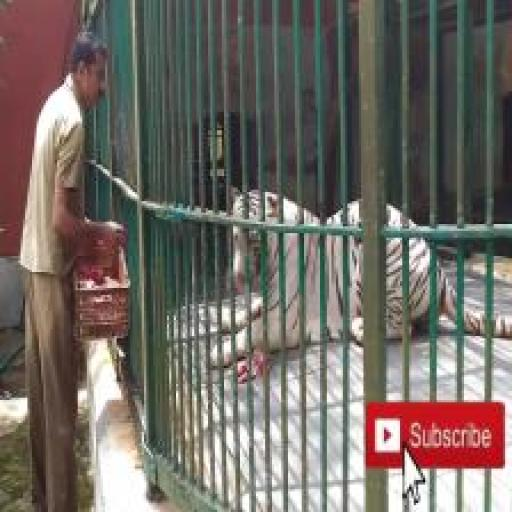Tiger: (208, 188, 511, 372)
